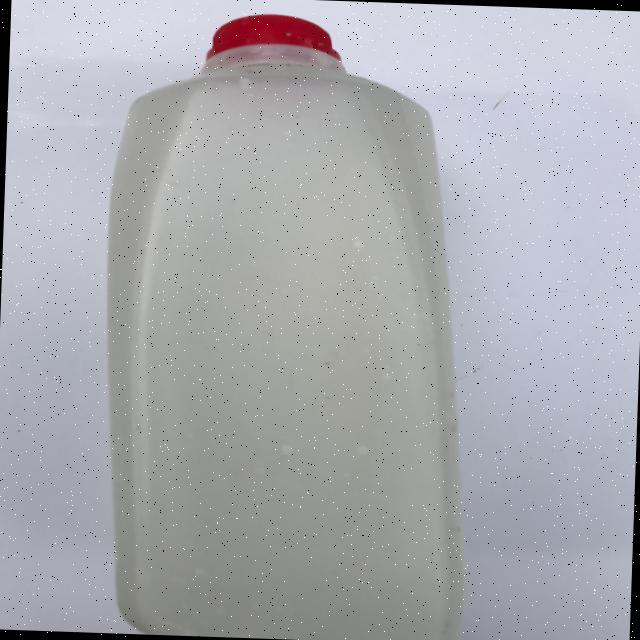plastic: (93, 8, 485, 640)
